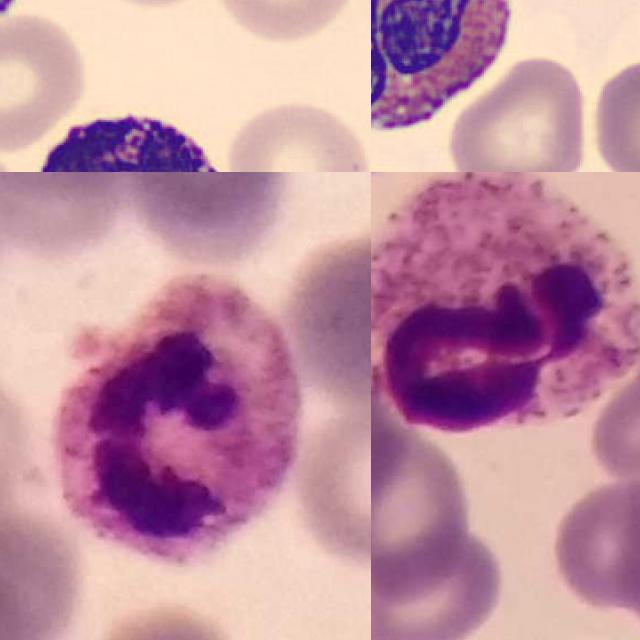Basophil: (10, 93, 245, 172)
Eosinophil: (371, 0, 526, 145)
Neutrophil: (53, 274, 302, 559), (371, 172, 640, 428)
RBC: (443, 52, 592, 172), (0, 11, 92, 152), (222, 94, 371, 172), (210, 0, 361, 46), (585, 52, 640, 172)
